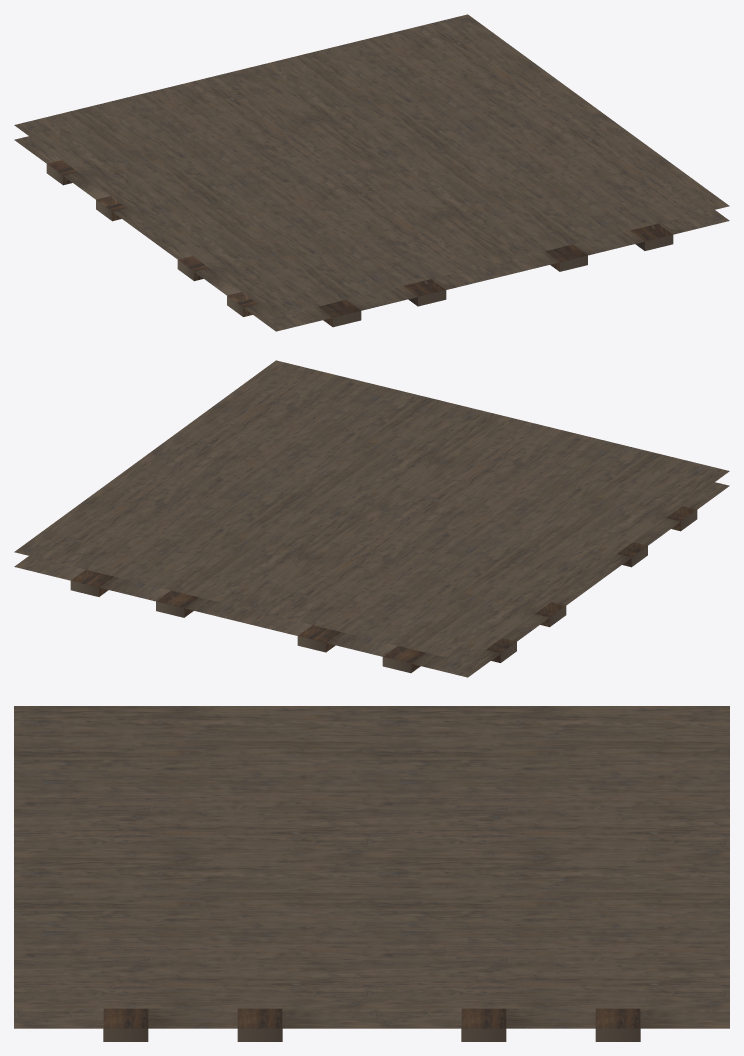
The model's file is floor_lg_wood.glb.
3 views of the same model, one above another, from view 1: azimuth 30°, elevation 25°; view 2: azimuth 150°, elevation 25°; view 3: azimuth 270°, elevation 25° (orthographic). The views are drawn at different scales.
Parts seen in each view (by area): view 1: floor_lg_wood; view 2: floor_lg_wood; view 3: floor_lg_wood.
Part boxes in pixels (x1,y1,x2,y2): floor_lg_wood: [14, 14, 729, 331]; floor_lg_wood: [14, 360, 729, 677]; floor_lg_wood: [14, 706, 729, 1041].
Size of the model in its own units: 16 by 0.817 by 16.
2 materials, 2 textured.
